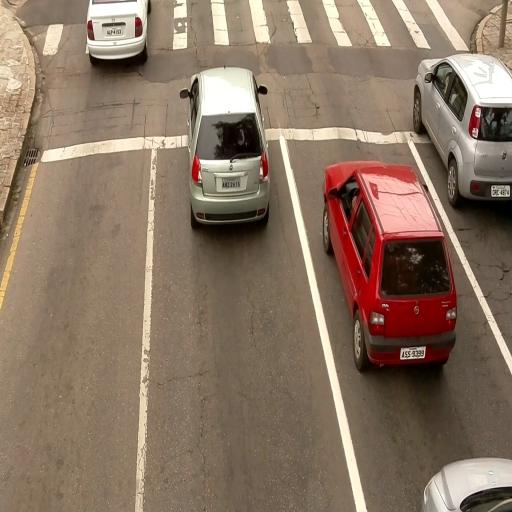car: (322, 160, 456, 370), (413, 53, 510, 208), (180, 64, 270, 228), (421, 456, 511, 511), (85, 2, 150, 64)
